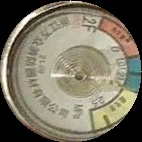green: (124, 56, 142, 95)
red: (99, 16, 139, 57)
yellow: (91, 89, 139, 133)
